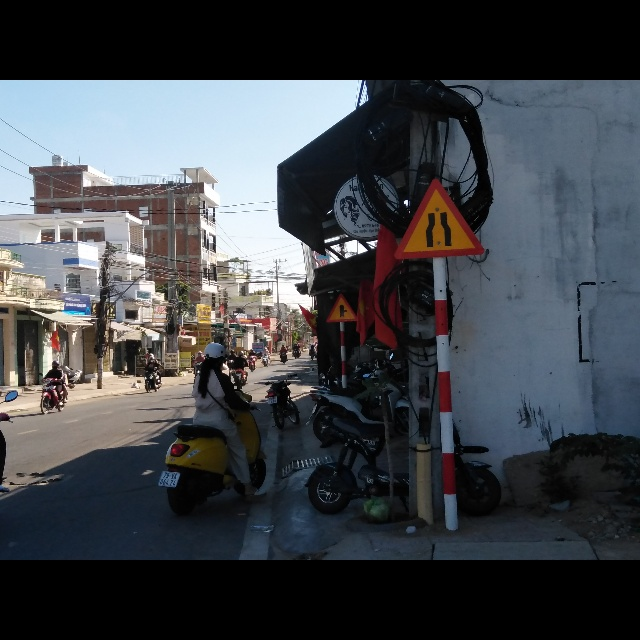Giao nhau với đường không ưu tiên: (326, 293, 359, 324)
Đường bị hẹp cả hai bên: (397, 177, 487, 259)
